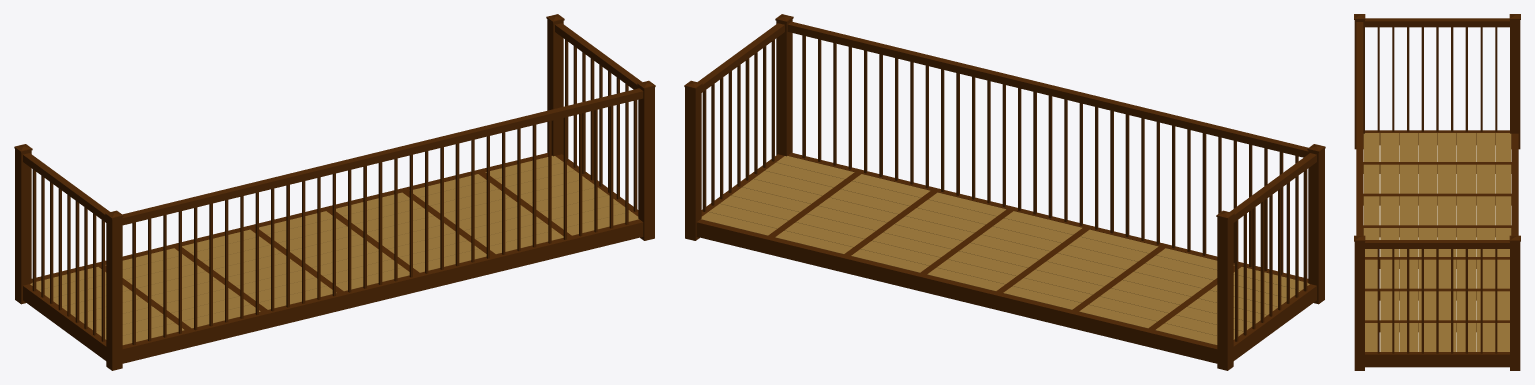
File: balcony.glb
The picture shows the model from 3 angles, left to right: view 1: azimuth 30°, elevation 25°; view 2: azimuth 150°, elevation 25°; view 3: azimuth 270°, elevation 25°; orthographic projection. The views are drawn at different scales.
Visible parts, largest first — view 1: Object_27, Object_94, Object_14, Object_15, Object_13, Object_80, Object_28, Object_12, Object_93, Object_92, Object_81, Object_86 (+58 smaller); view 2: Object_28, Object_94, Object_13, Object_80, Object_14, Object_15, Object_27, Object_12, Object_92, Object_93, Object_61, Object_65 (+63 smaller); view 3: Object_16, Object_94, Object_93, Object_15, Object_80, Object_13, Object_92, Object_28, Object_30, Object_14, Object_45, Object_48 (+78 smaller).
Part boxes in pixels (x1,y1,x2,y2): Object_27: (122,219,643,363); Object_94: (122,88,643,225); Object_14: (106,216,122,370); Object_15: (638,86,654,240); Object_13: (15,149,31,304); Object_80: (547,19,563,156); Object_28: (31,153,552,282); Object_12: (23,284,106,360); Object_93: (23,153,109,222); Object_92: (555,23,642,89); Object_81: (453,205,532,230); Object_86: (529,187,608,211); Object_28: (696,219,1217,363); Object_94: (787,21,1308,157); Object_13: (1217,216,1233,370); Object_80: (685,86,701,240); Object_14: (1308,149,1324,304); Object_15: (776,19,792,156); Object_27: (787,152,1308,282); Object_12: (1233,284,1316,360); Object_92: (697,23,784,92); Object_93: (1230,153,1316,222); Object_61: (970,234,1050,259); Object_65: (993,218,1072,243); Object_16: (1365,352,1509,367); Object_94: (1356,22,1363,235); Object_93: (1365,18,1509,27); Object_15: (1354,241,1364,370); Object_80: (1510,241,1520,370); Object_13: (1510,20,1520,149); Object_92: (1365,240,1509,248); Object_28: (1511,133,1518,235); Object_30: (1363,193,1511,205); Object_14: (1354,20,1364,149); Object_45: (1418,164,1437,193); Object_48: (1476,164,1495,193).
Size of the model in its own units: 157 by 42.58 by 48.86.
